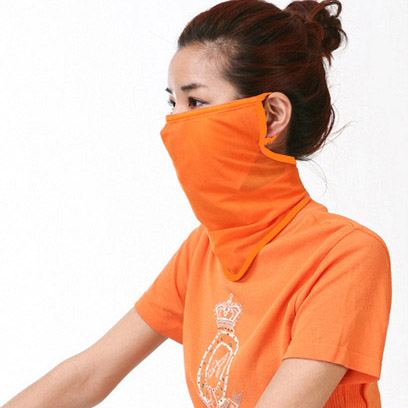face_mask: (162, 41, 256, 187)
